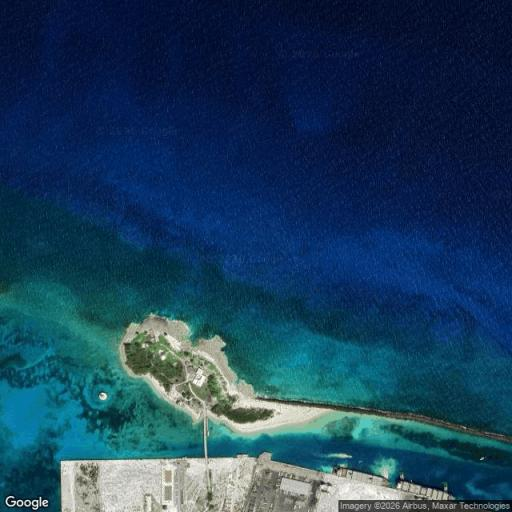ship: (394, 477, 460, 505), (333, 467, 393, 488), (480, 452, 489, 466)
